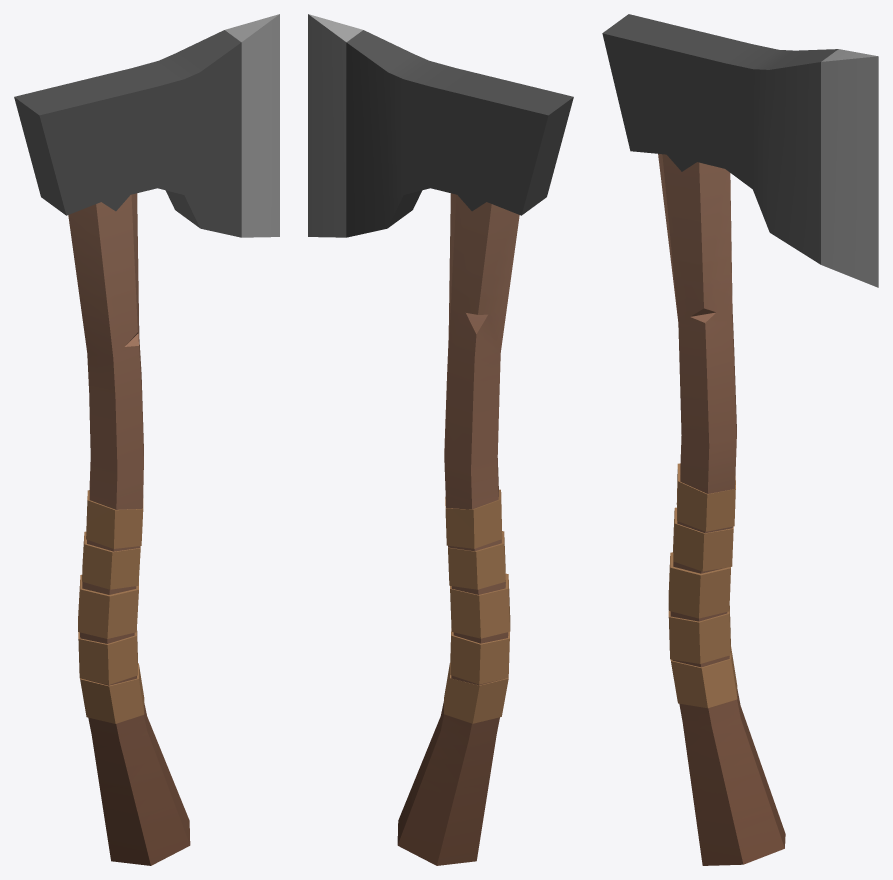
3 renders of one model, left to right at view 1: azimuth 30°, elevation 25°; view 2: azimuth 150°, elevation 25°; view 3: azimuth 330°, elevation 25°, orthographic. The views are drawn at different scales.
Parts seen in each view (by area): view 1: Ax_01; view 2: Ax_01; view 3: Ax_01.
Boxes of the visible parts, x1=… form: Ax_01: x1=14, y1=14, x2=279, y2=865; Ax_01: x1=308, y1=14, x2=573, y2=865; Ax_01: x1=602, y1=14, x2=878, y2=865.
Size of the model in its own units: 23.01 by 70.02 by 6.39.
